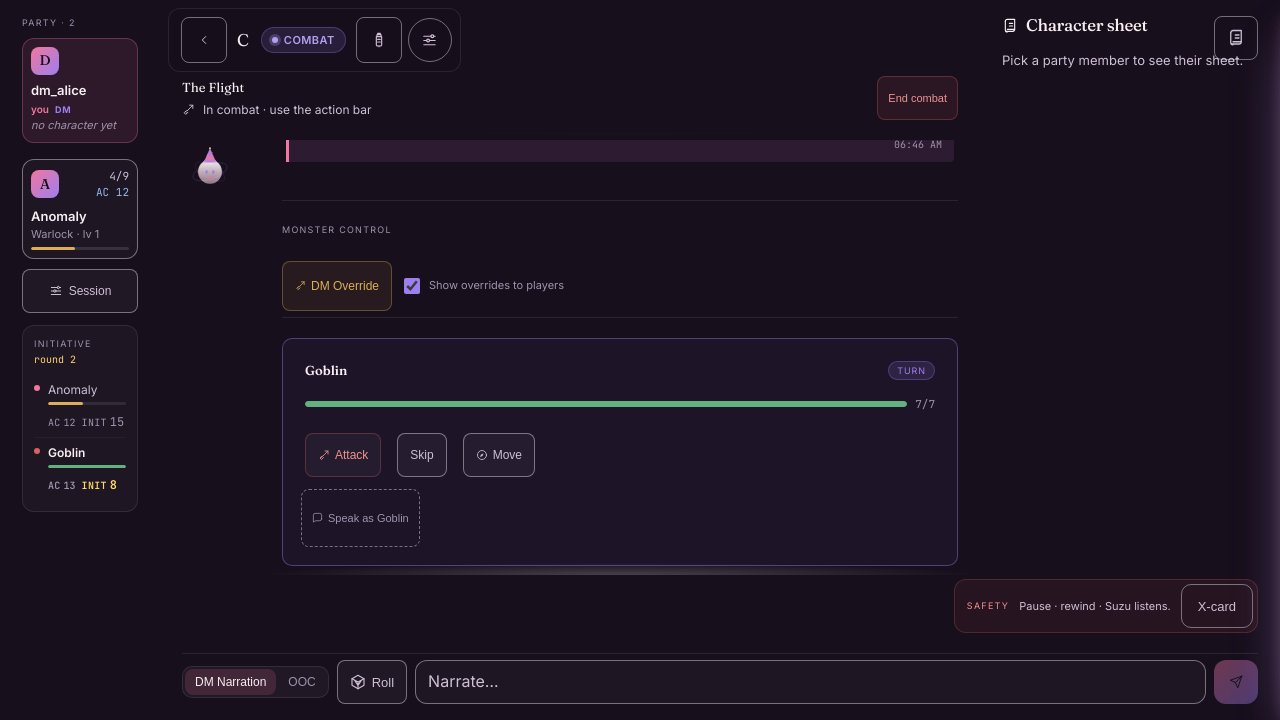
Test: PIN-10 (F06): the hold arrives while the DM is typing a Reason: focus stays in the Reason box › the kinds shrink to Revive; the caret is not moved to the radio
The image size is (1280, 720).
(page scrolled)
Expected: the text "In combat · use the action bar" is shown, [182,102,372,116]
Click the button with aria-label "Open DM override modal" at [337, 286], box [282,260,392,310]
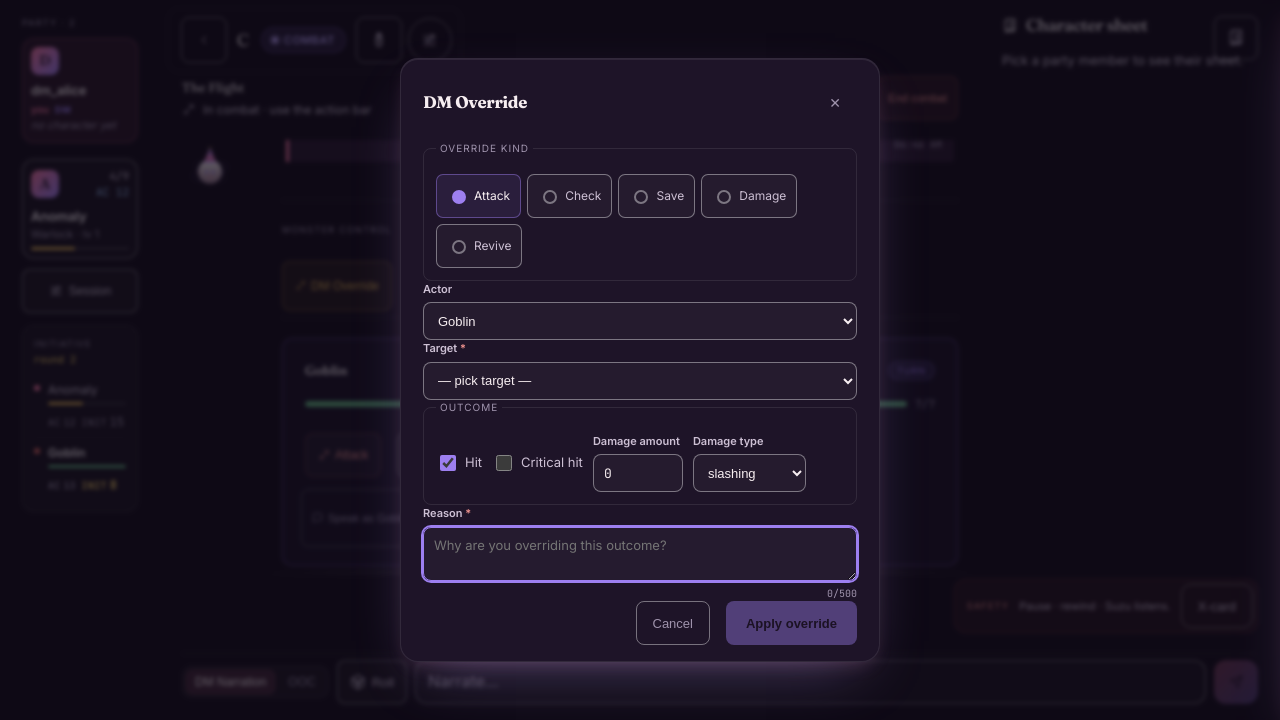
Type "half a sentence" into the text box labelled "Reason *" at [640, 554], box [423,527,857,581]
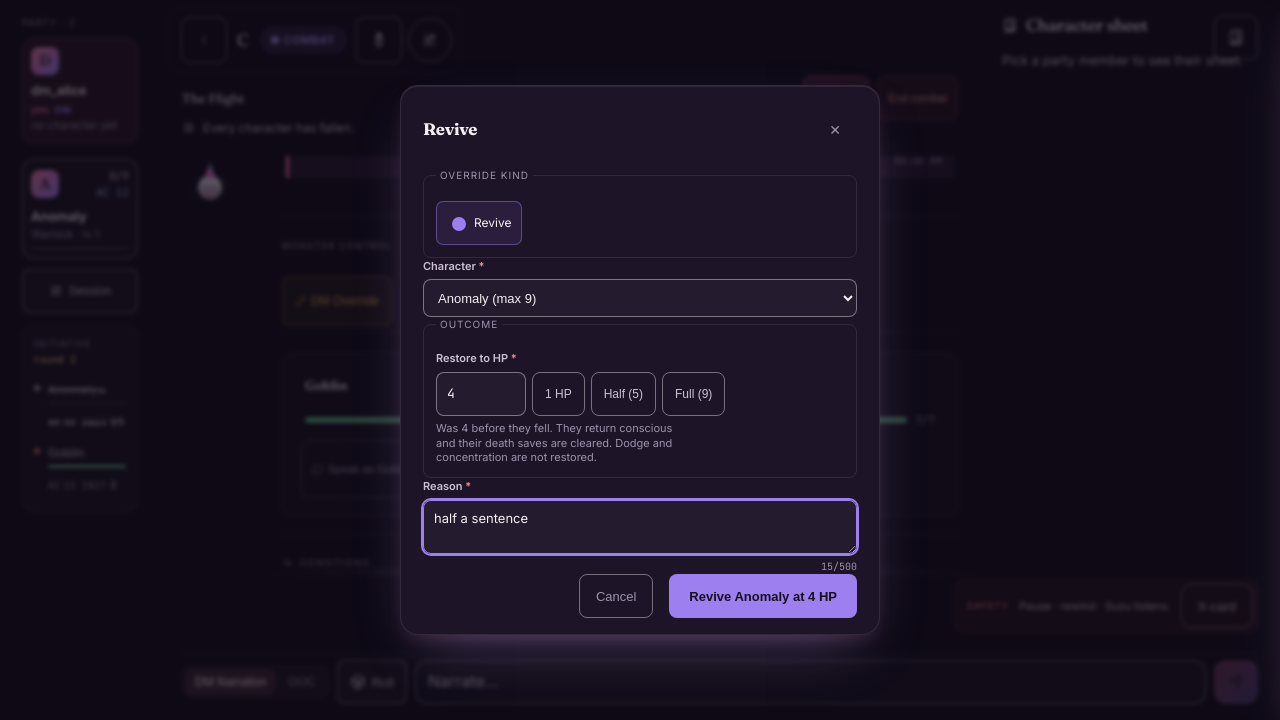
Expected: the number of radio buttons is 1, [452,217,466,231]
